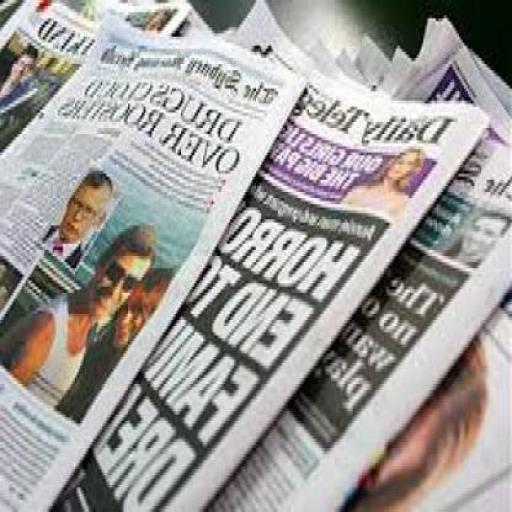paper: (52, 3, 490, 509), (1, 0, 309, 510), (208, 40, 503, 510), (344, 283, 510, 510)
